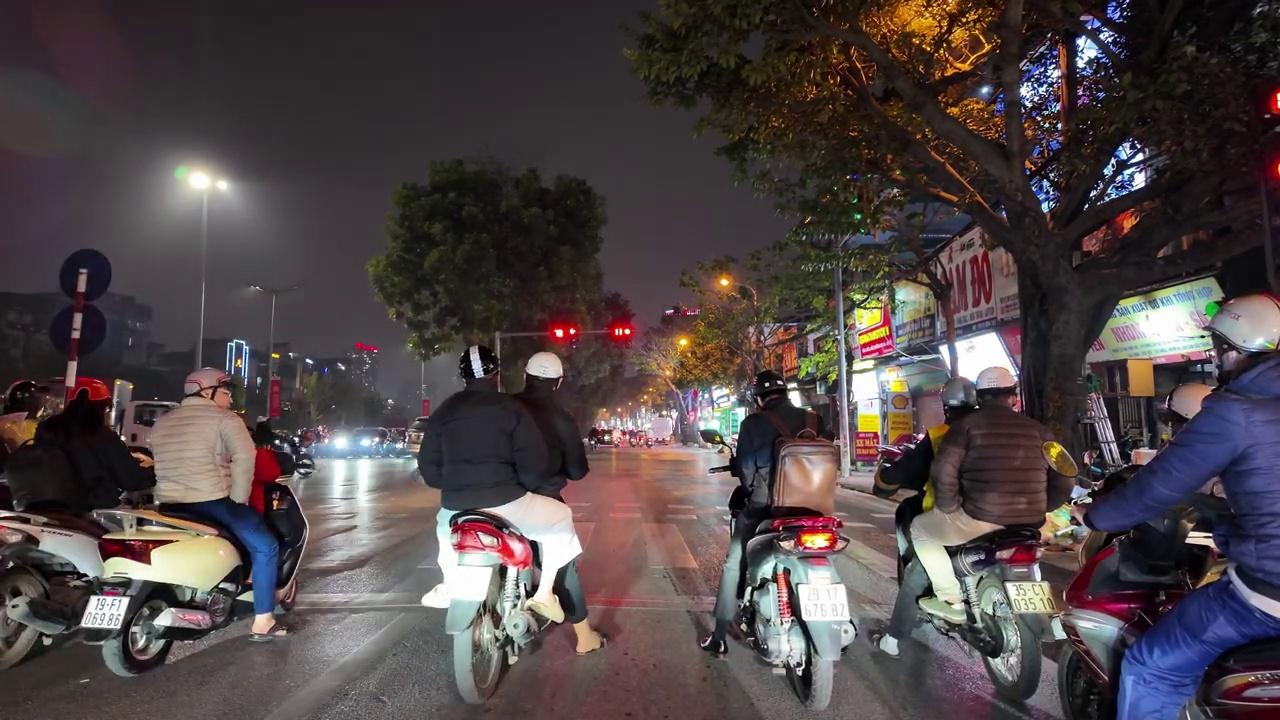acesa: (178, 163, 222, 197), (713, 271, 738, 296)
